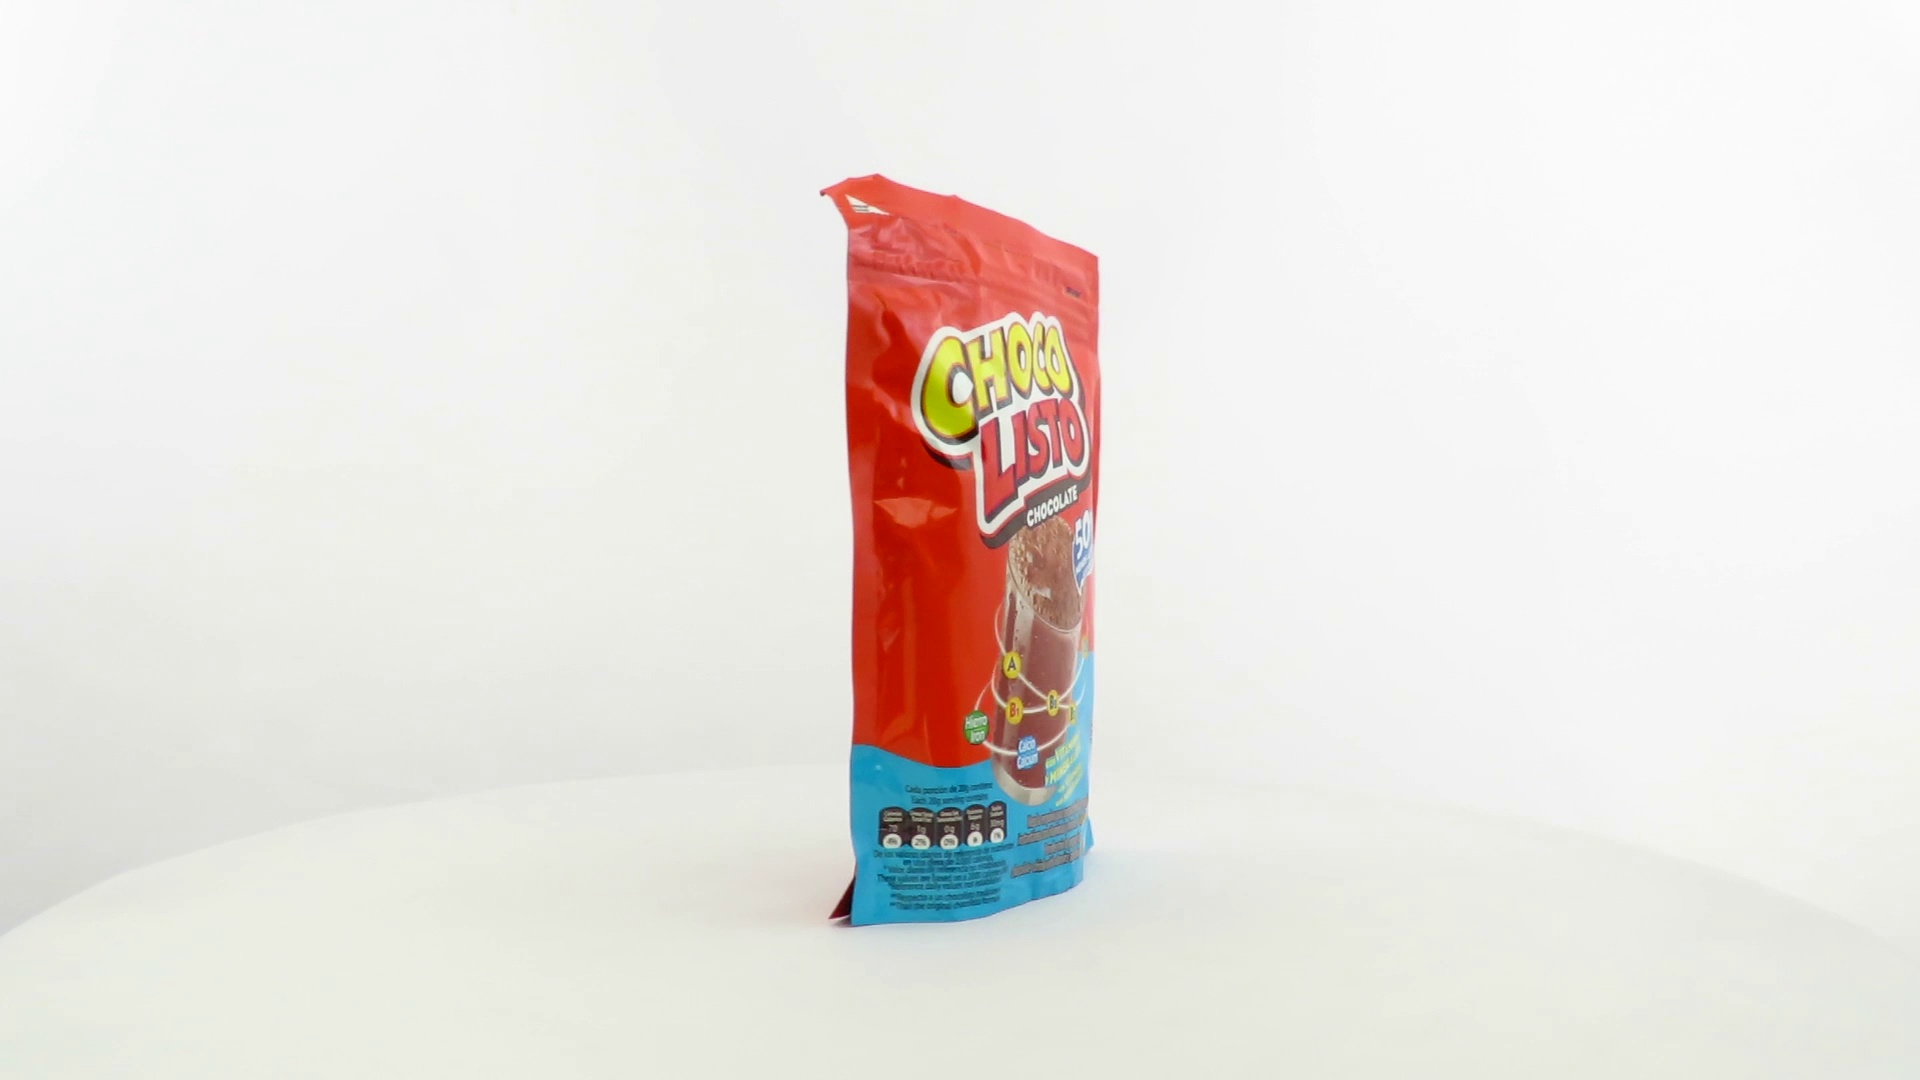COL0170104DYP20000: (815, 167, 1106, 934)
